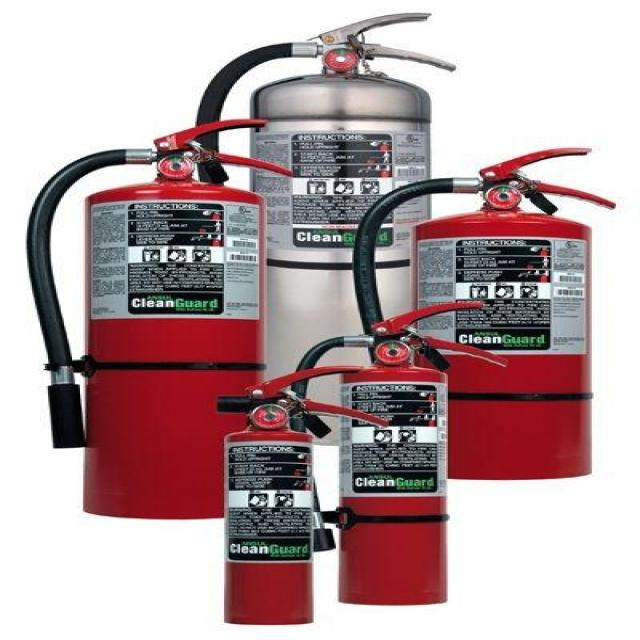fire_extinguisher: (182, 8, 460, 454), (18, 114, 298, 523), (342, 145, 624, 482), (273, 296, 511, 607), (201, 359, 393, 628)
